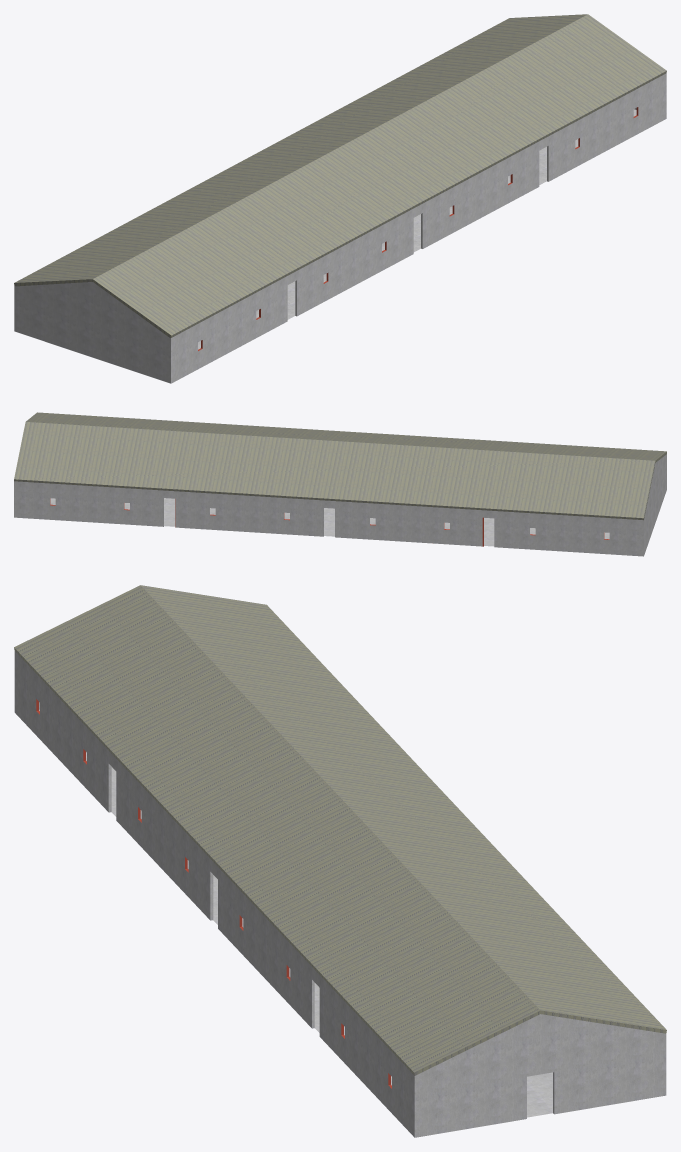
The picture shows the model from 3 angles, top to bottom: view 1: azimuth 30°, elevation 25°; view 2: azimuth 150°, elevation 25°; view 3: azimuth 270°, elevation 25°; orthographic projection. The views are drawn at different scales.
Parts seen in each view (by area): view 1: L棟(修); view 2: L棟(修); view 3: L棟(修).
Boxes of the visible parts, left/top/right/bottom form: L棟(修): left=14, top=14, right=666, bottom=383; L棟(修): left=14, top=412, right=666, bottom=556; L棟(修): left=14, top=585, right=666, bottom=1137.
Bounding box in the file's own units: 40.88 × 4.33 × 24.12.
Materials: 3 (2 with a texture image).
